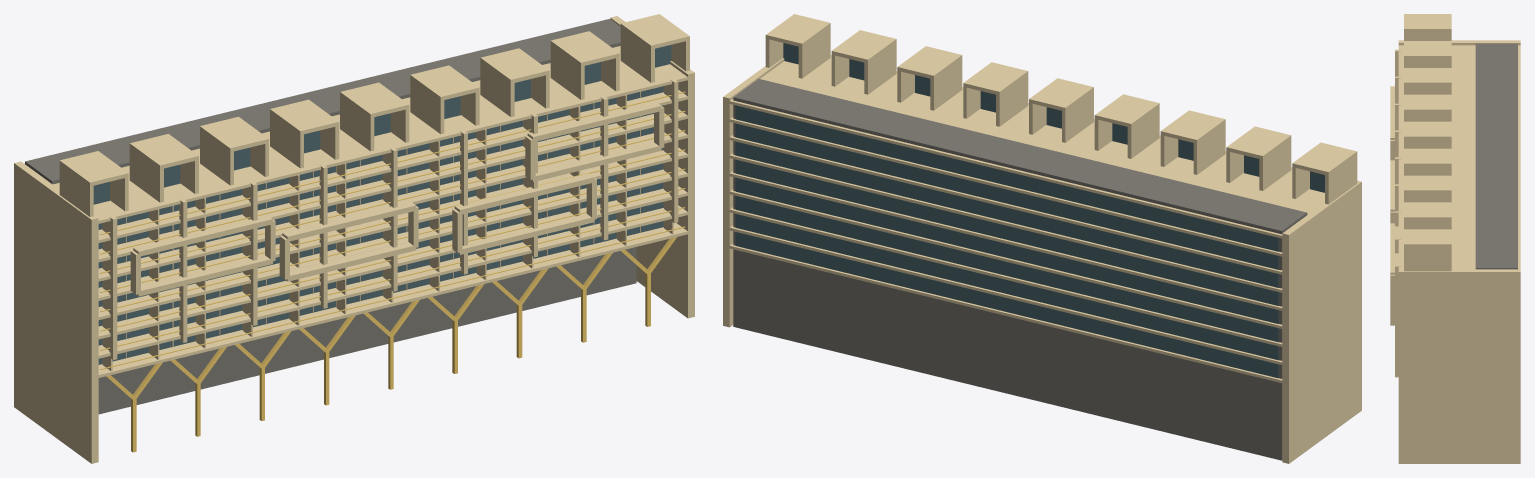
File: oneoneo.glb
3 views of the same model, side by side, from view 1: azimuth 30°, elevation 25°; view 2: azimuth 150°, elevation 25°; view 3: azimuth 270°, elevation 25° (orthographic). The views are drawn at different scales.
Parts seen in each view (by area): view 1: End wall (×2), Rear structure, Roof frame lintel (×9), Roof frame left (×9), Projecting frame beam (×8), Floor slab 8, Facade frame pier (×9), Balcony rail (×8), Floor slab 0, Floor slab 1, Floor slab 7, Floor slab 3 (+12 smaller); view 2: Rear structure, End wall (×2), Floor slab 8, Roof frame lintel (×9), Roof frame left (×9), Rear glazing 0, Rear glazing 6, Rear glazing 7, Rear glazing 1, Rear glazing 2, Rear glazing 4, Rear glazing 5 (+9 smaller); view 3: End wall (×2), Rear structure, Floor slab 8, Roof frame lintel (×9), Roof frame right (×9), Projecting frame beam (×3), Facade frame pier, Projecting frame side.
Part boxes in pixels (x1=…): End wall (×2): x1=14, y1=16, x2=694, y2=463; Rear structure: x1=25, y1=19, x2=636, y2=414; Roof frame lintel (×9): x1=59, y1=14, x2=689, y2=186; Roof frame left (×9): x1=59, y1=24, x2=654, y2=216; Projecting frame beam (×8): x1=133, y1=102, x2=661, y2=296; Floor slab 8: x1=24, y1=46, x2=691, y2=224; Facade frame pier (×9): x1=109, y1=79, x2=678, y2=359; Balcony rail (×8): x1=100, y1=91, x2=685, y2=369; Floor slab 0: x1=95, y1=223, x2=691, y2=378; Floor slab 1: x1=95, y1=205, x2=691, y2=359; Floor slab 7: x1=95, y1=90, x2=691, y2=243; Floor slab 3: x1=95, y1=167, x2=691, y2=320; Rear structure: x1=733, y1=79, x2=1307, y2=460; End wall (×2): x1=723, y1=58, x2=1361, y2=463; Floor slab 8: x1=726, y1=55, x2=1324, y2=239; Roof frame lintel (×9): x1=766, y1=14, x2=1356, y2=174; Roof frame left (×9): x1=798, y1=23, x2=1357, y2=204; Rear glazing 0: x1=735, y1=232, x2=1278, y2=378; Rear glazing 6: x1=735, y1=123, x2=1278, y2=269; Rear glazing 7: x1=735, y1=105, x2=1278, y2=251; Rear glazing 1: x1=735, y1=214, x2=1278, y2=360; Rear glazing 2: x1=735, y1=196, x2=1278, y2=342; Rear glazing 4: x1=735, y1=159, x2=1278, y2=305; Rear glazing 5: x1=735, y1=141, x2=1278, y2=287; End wall (×2): x1=1398, y1=40, x2=1520, y2=463; Rear structure: x1=1475, y1=43, x2=1517, y2=269; Floor slab 8: x1=1398, y1=45, x2=1520, y2=269; Roof frame lintel (×9): x1=1404, y1=14, x2=1451, y2=247; Roof frame right (×9): x1=1404, y1=29, x2=1451, y2=271; Projecting frame beam (×3): x1=1390, y1=86, x2=1398, y2=274; Facade frame pier: x1=1395, y1=265, x2=1400, y2=377; Projecting frame side: x1=1390, y1=274, x2=1394, y2=306.
Size of the model in its own units: 103 by 45.53 by 24.6.
